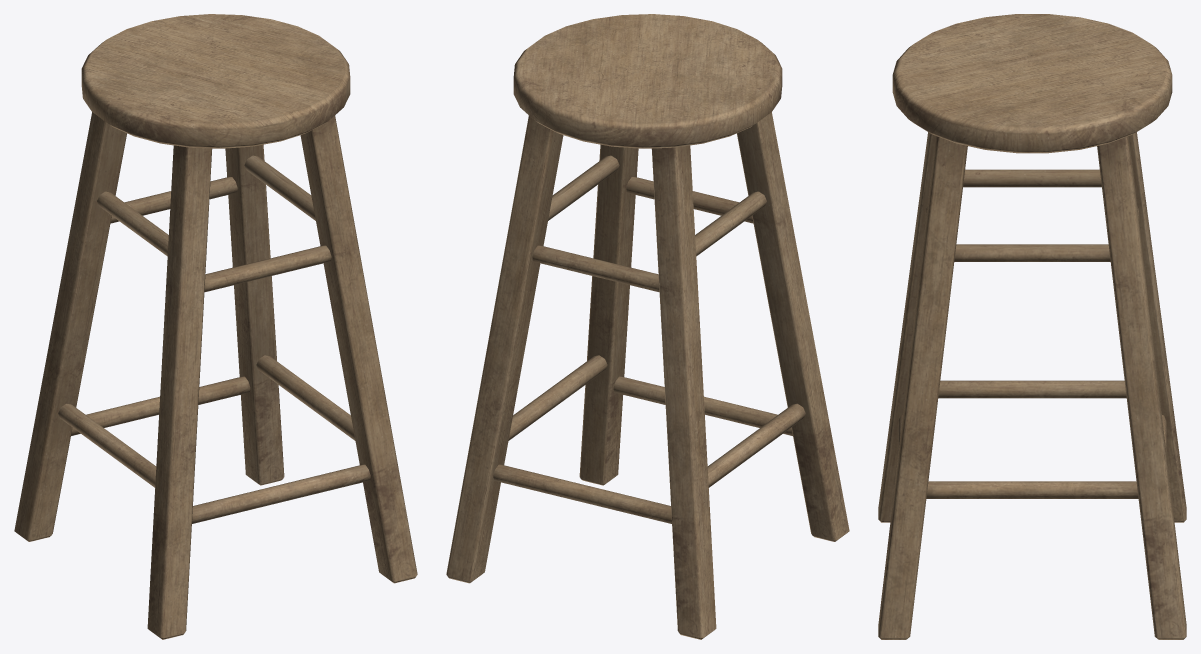
Rendered from old_wooden_stool.glb.
3 views of the same model, side by side, from view 1: azimuth 30°, elevation 25°; view 2: azimuth 150°, elevation 25°; view 3: azimuth 270°, elevation 25° (orthographic). The views are drawn at different scales.
Parts seen in each view (by area): view 1: stool_stool_0; view 2: stool_stool_0; view 3: stool_stool_0.
Part boxes in pixels (x1=…): stool_stool_0: x1=14, y1=14, x2=417, y2=639; stool_stool_0: x1=446, y1=14, x2=849, y2=639; stool_stool_0: x1=878, y1=14, x2=1186, y2=639.
Bounding box in the file's own units: 0.3236 × 0.5838 × 0.3227.
Materials: 1 (1 with a texture image).
